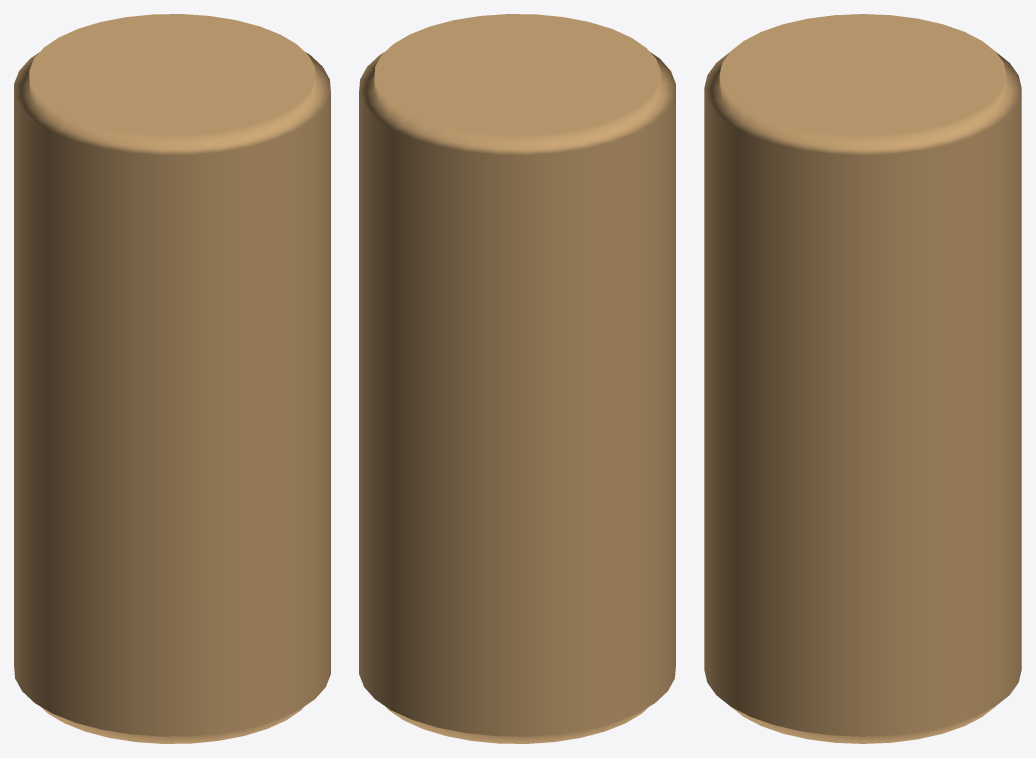
File: bevel_cylinder_wood.glb
3 views of the same model, side by side, from view 1: azimuth 30°, elevation 25°; view 2: azimuth 150°, elevation 25°; view 3: azimuth 270°, elevation 25° (orthographic).
Visible parts, largest first — view 1: BevelCylWood; view 2: BevelCylWood; view 3: BevelCylWood.
Boxes of the visible parts, bbox=[...] form: BevelCylWood: bbox=[14, 14, 330, 743]; BevelCylWood: bbox=[359, 14, 675, 743]; BevelCylWood: bbox=[704, 14, 1021, 743].
Bounding box in the file's own units: 1.04 × 2.2 × 1.04.
